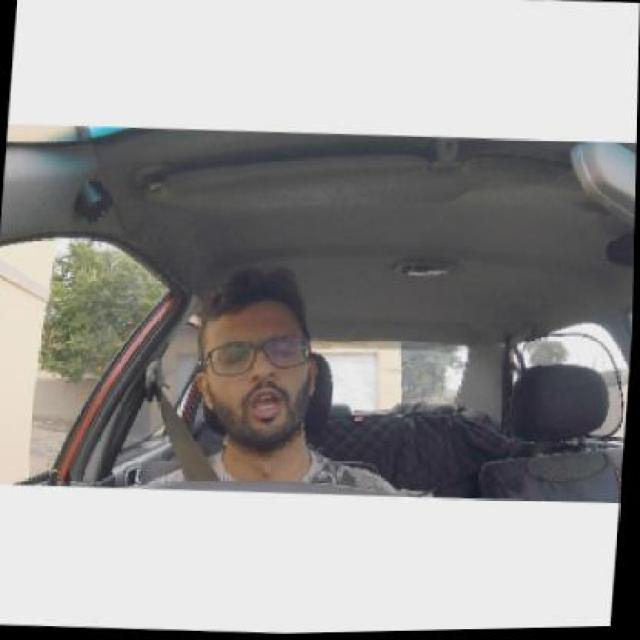drowsy: (178, 260, 332, 472)
